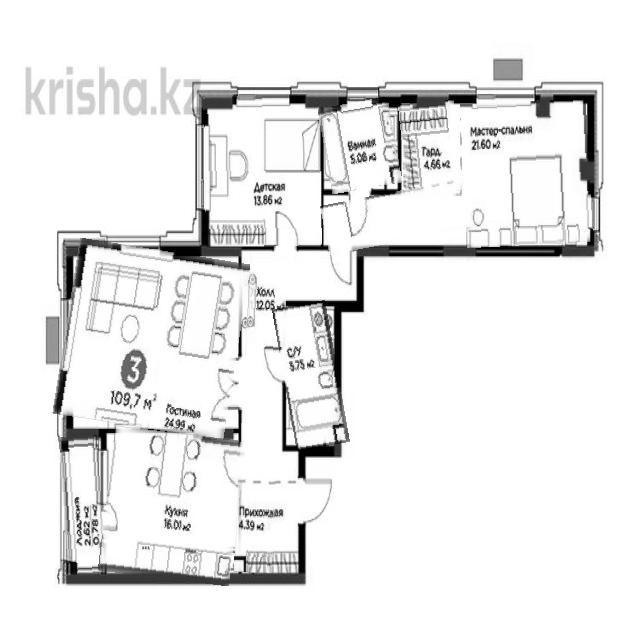balcony: (61, 435, 104, 575)
bathroom: (278, 302, 344, 450), (321, 99, 398, 192)
hallway: (238, 254, 284, 573), (322, 187, 462, 249)
kitchen: (102, 430, 242, 583)
living_room: (59, 244, 244, 434), (462, 99, 591, 247), (204, 95, 321, 246)
other: (400, 101, 461, 195)
